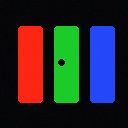0 point: (58, 59, 64, 65)
